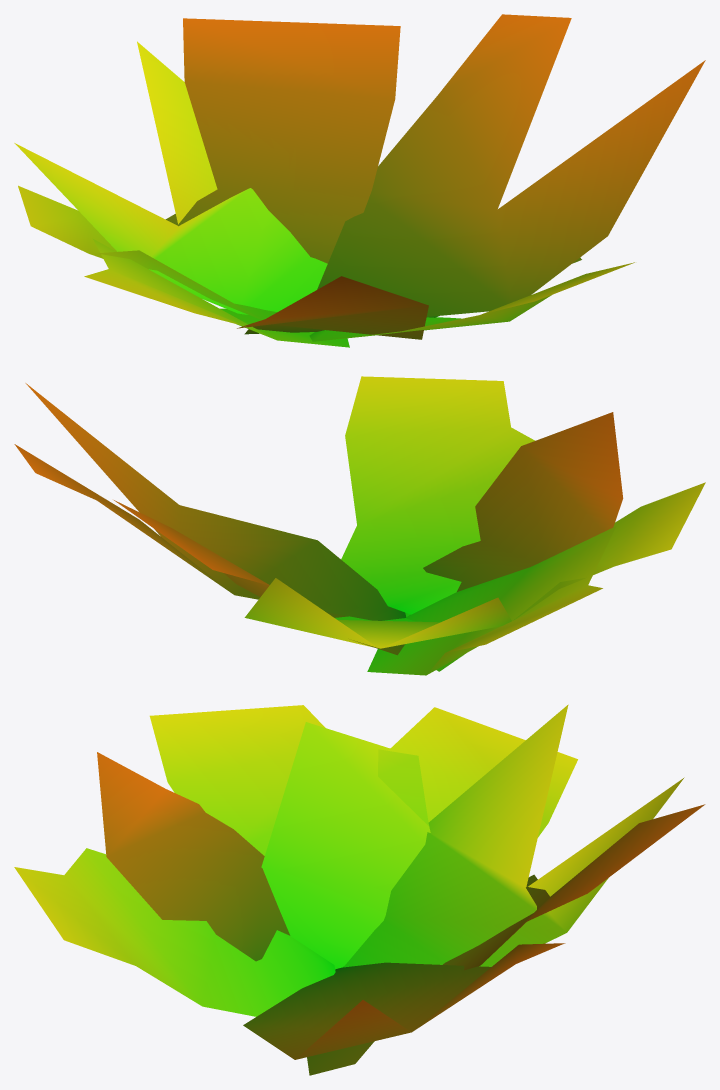
File: SM_Carnivorous_Base.fbx
3 views of the same model, one above another, from view 1: azimuth 30°, elevation 25°; view 2: azimuth 150°, elevation 25°; view 3: azimuth 270°, elevation 25° (orthographic). The views are drawn at different scales.
Visible parts, largest first — view 1: Seaweed_LOD0_Var1_sdokF_1; view 2: Seaweed_LOD0_Var1_sdokF_1; view 3: Seaweed_LOD0_Var1_sdokF_1.
Part boxes in pixels (bbox=[...]): Seaweed_LOD0_Var1_sdokF_1: bbox=[14, 14, 705, 347]; Seaweed_LOD0_Var1_sdokF_1: bbox=[14, 376, 705, 675]; Seaweed_LOD0_Var1_sdokF_1: bbox=[14, 704, 705, 1075].
Size of the model in its own units: 204 by 54.99 by 178.
